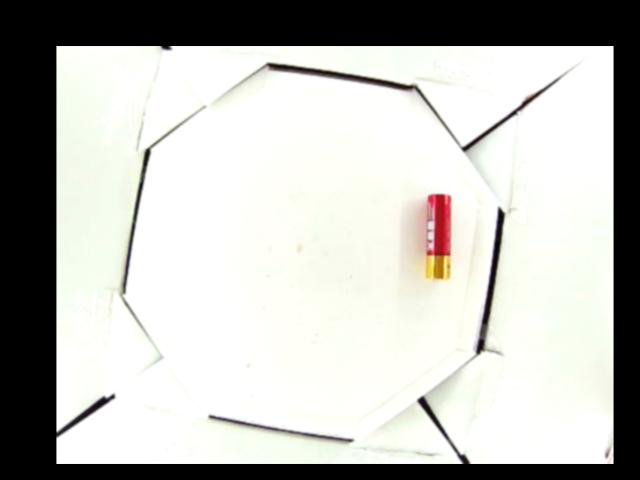Battery: (425, 192, 452, 281)
